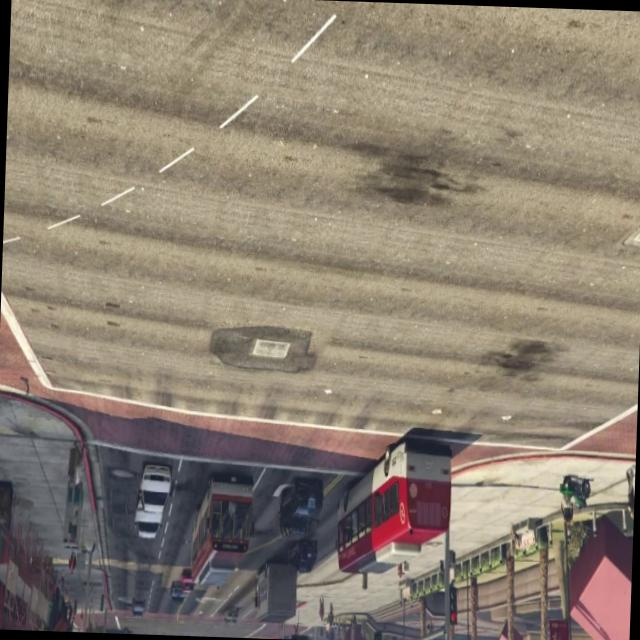Red-Signal: (443, 579, 463, 635), (284, 625, 315, 640), (369, 619, 387, 640)
